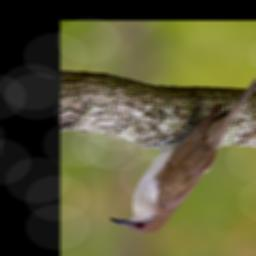Cuckoo: (108, 57, 256, 235)
